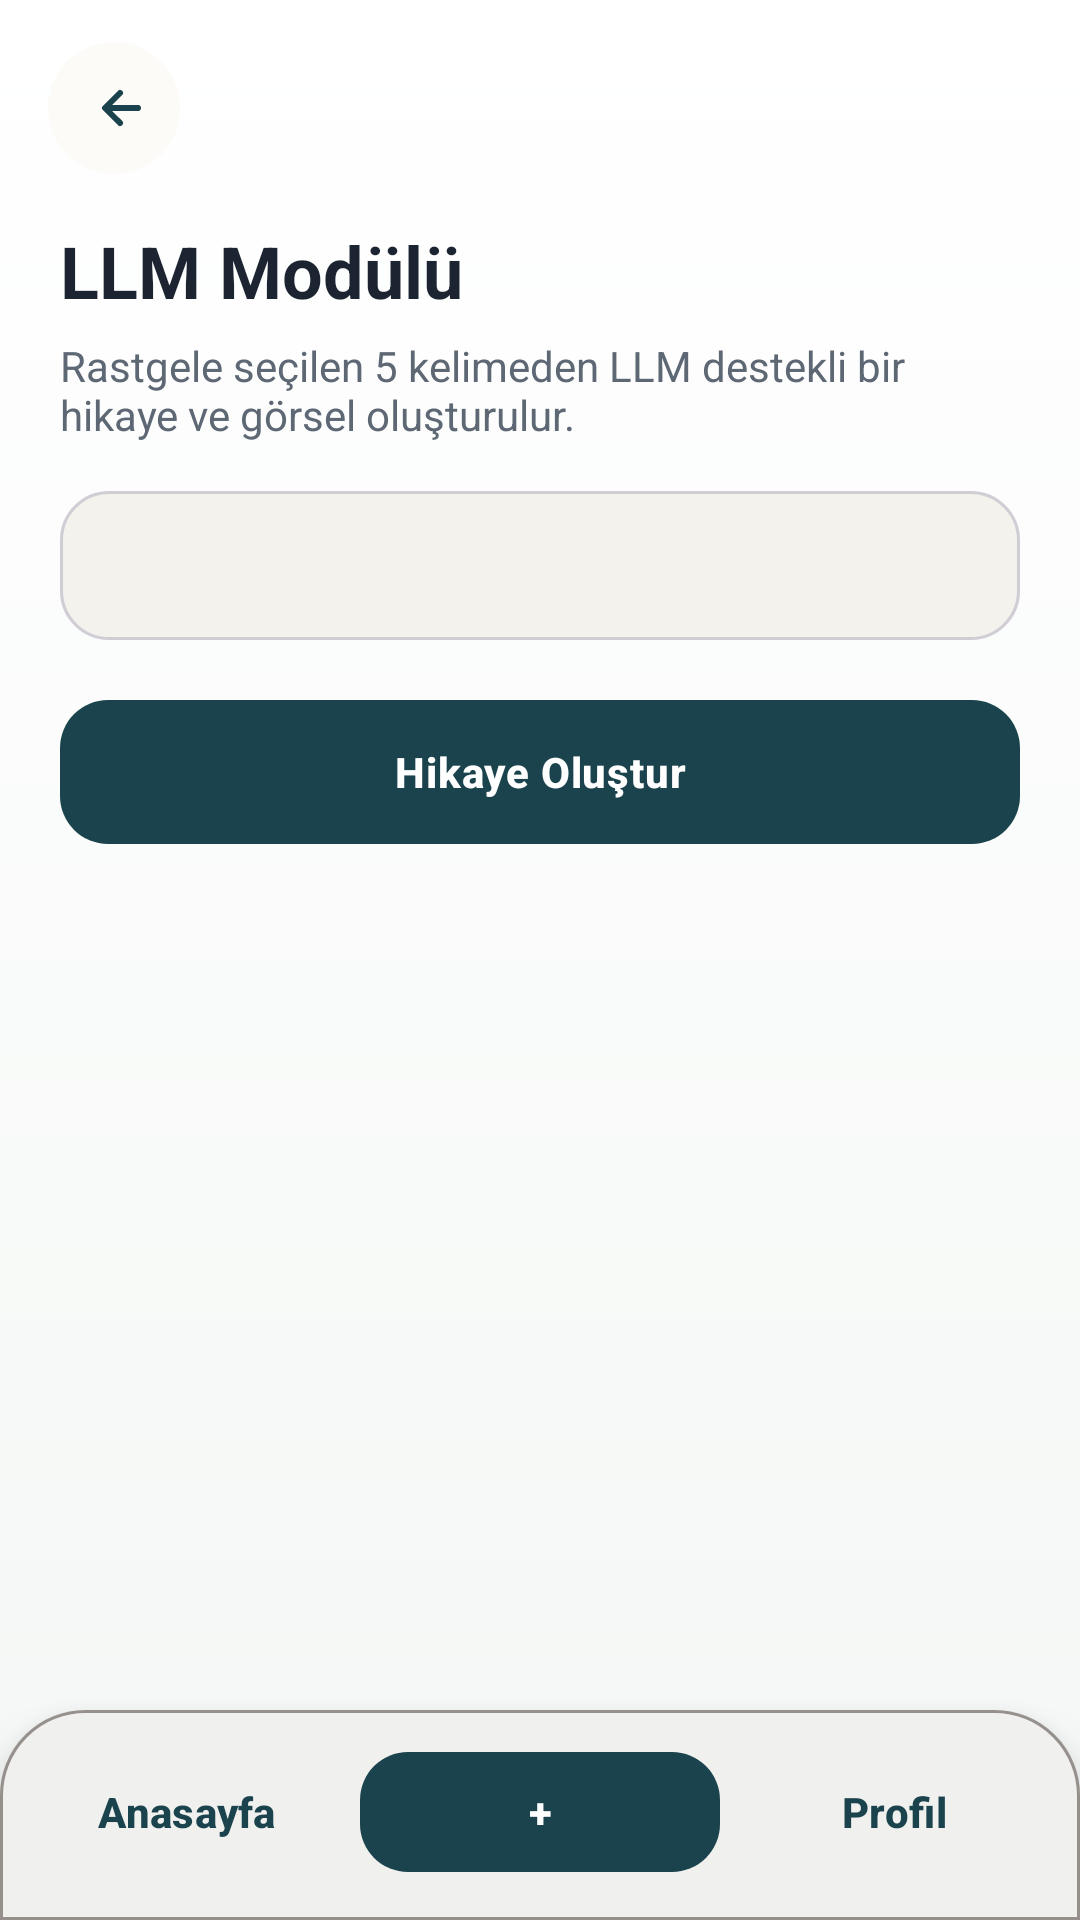

Named icons in this screenshot (1080×1920) and their centers, point (x, y):
Geri: point (121, 108)
